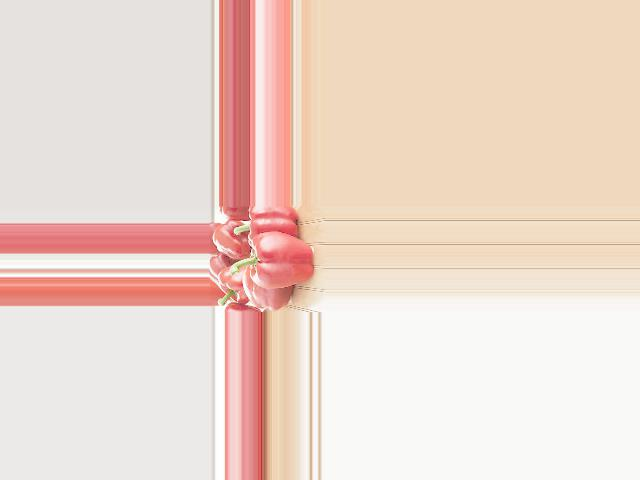bell_pepper: (216, 266, 251, 308)
